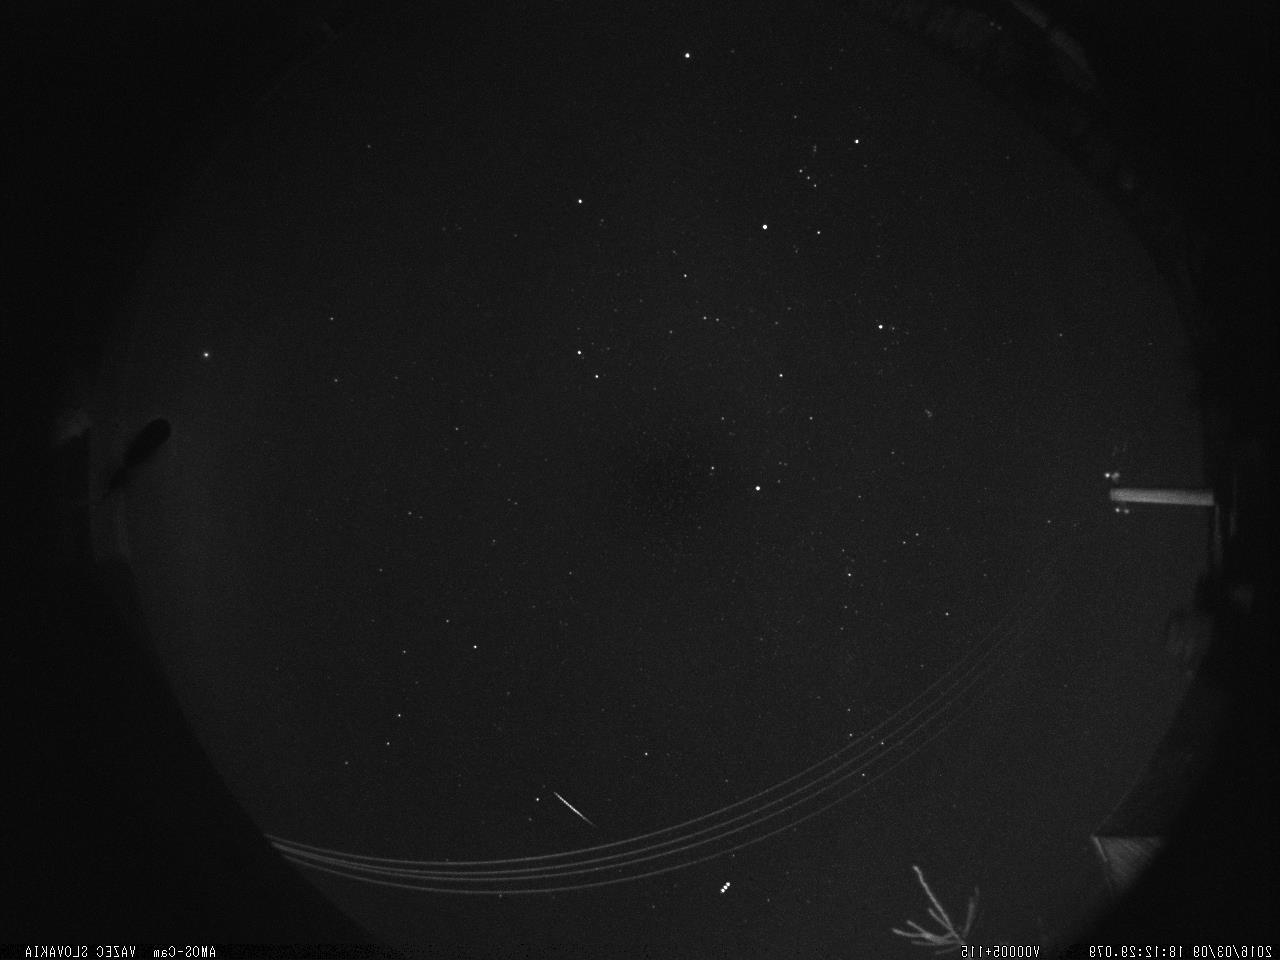meteor: (550, 786, 603, 832)
satelite: (714, 873, 736, 901)
